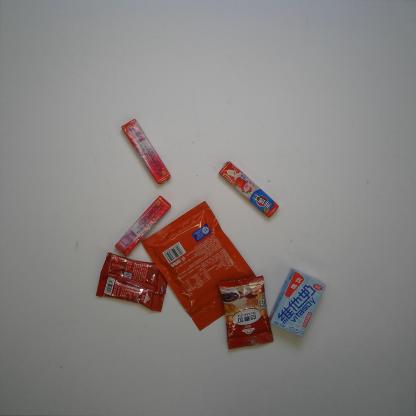Candy: (114, 195, 171, 256), (219, 162, 279, 218), (121, 118, 171, 184)
Dried Fruit: (142, 200, 258, 332)
Instant Drink: (95, 252, 168, 312), (218, 275, 274, 350)
Milk: (270, 267, 326, 338)
